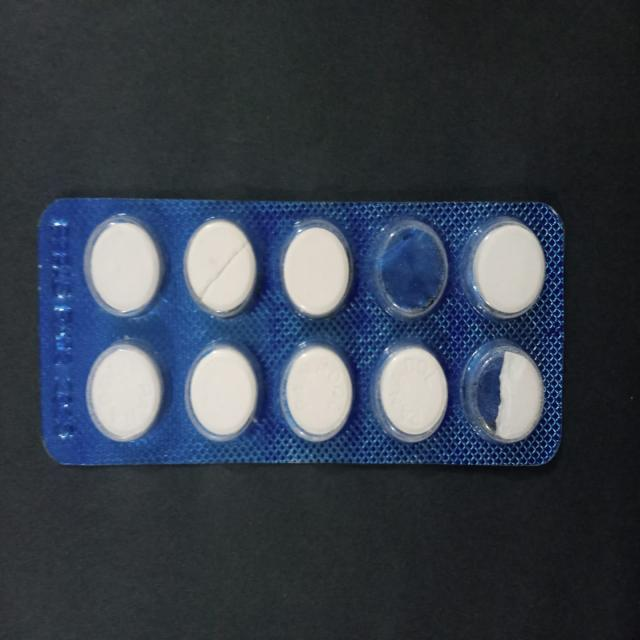defect: (459, 336, 548, 450), (367, 214, 454, 326), (179, 213, 263, 323)
